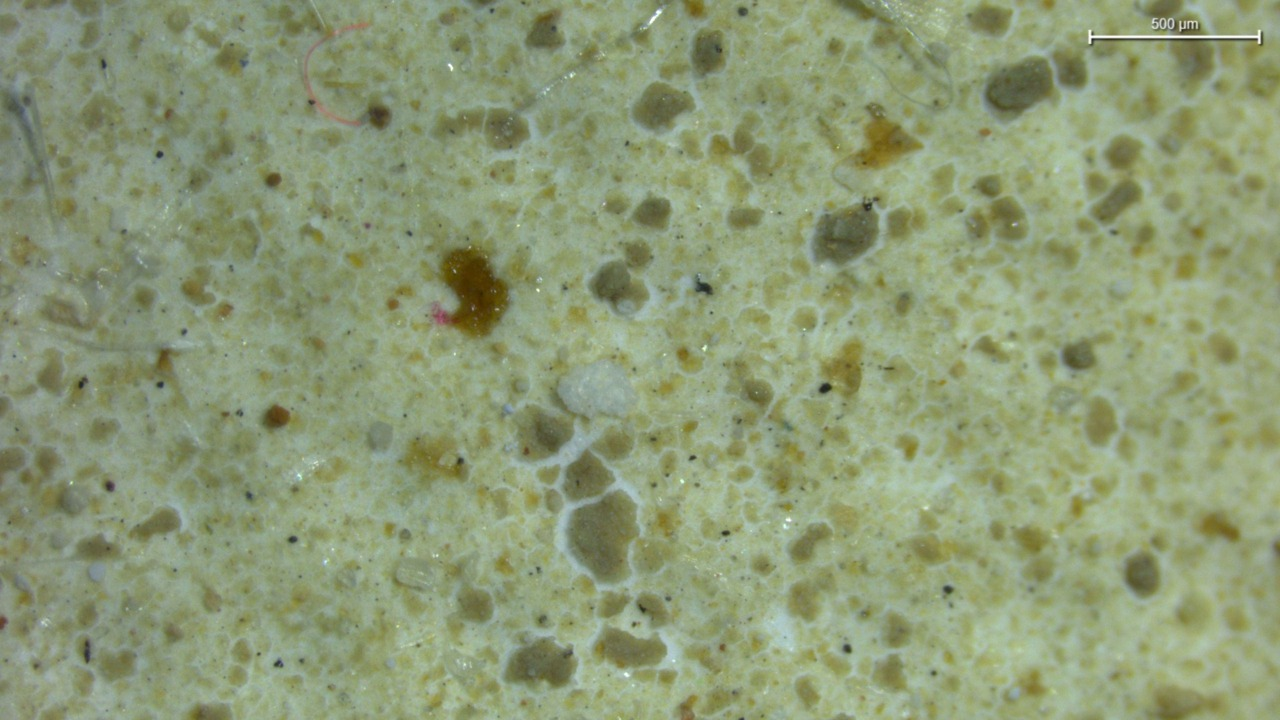microplastic_fragment: (558, 359, 636, 418), (395, 557, 443, 590), (367, 421, 393, 451)
